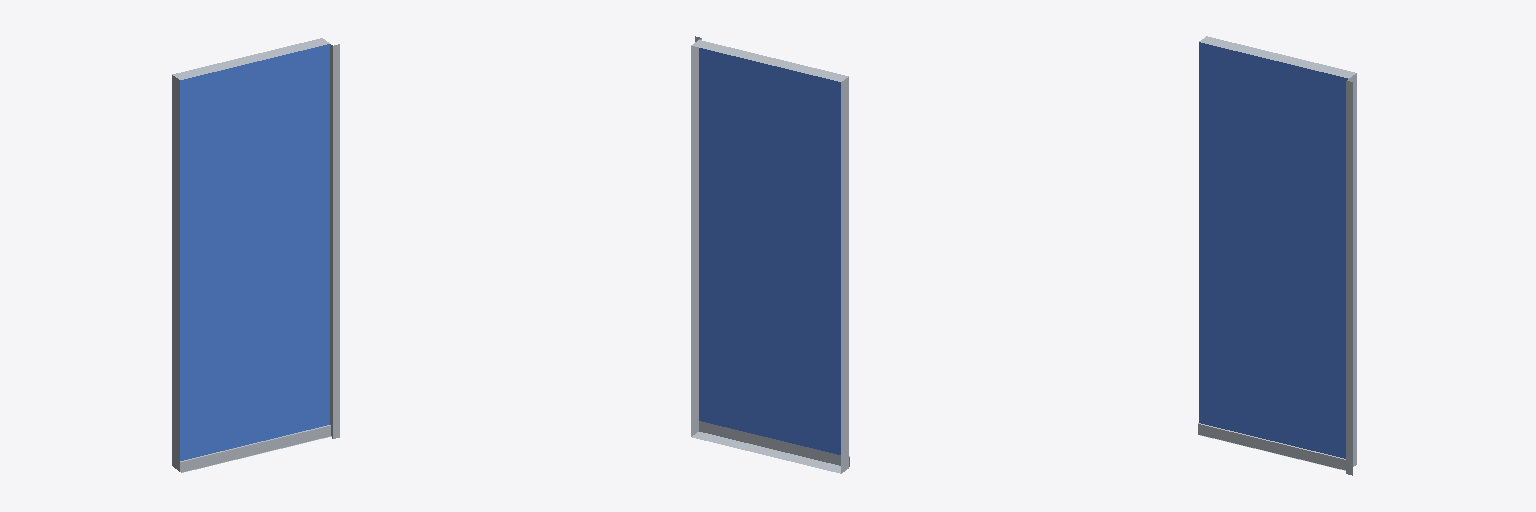
Rendered from janelaInterna.obj.
3 views of the same model, side by side, from view 1: azimuth 30°, elevation 25°; view 2: azimuth 150°, elevation 25°; view 3: azimuth 330°, elevation 25° (orthographic).
Visible parts, largest first — view 1: Mesh1 Model; view 2: Mesh1 Model; view 3: Mesh1 Model.
Boxes of the visible parts, box(x1,y1,x2,y2) form: Mesh1 Model: box(172, 38, 339, 472); Mesh1 Model: box(691, 36, 849, 473); Mesh1 Model: box(1198, 36, 1356, 475).
Bounding box in the file's own units: 866 × 2072 × 101.